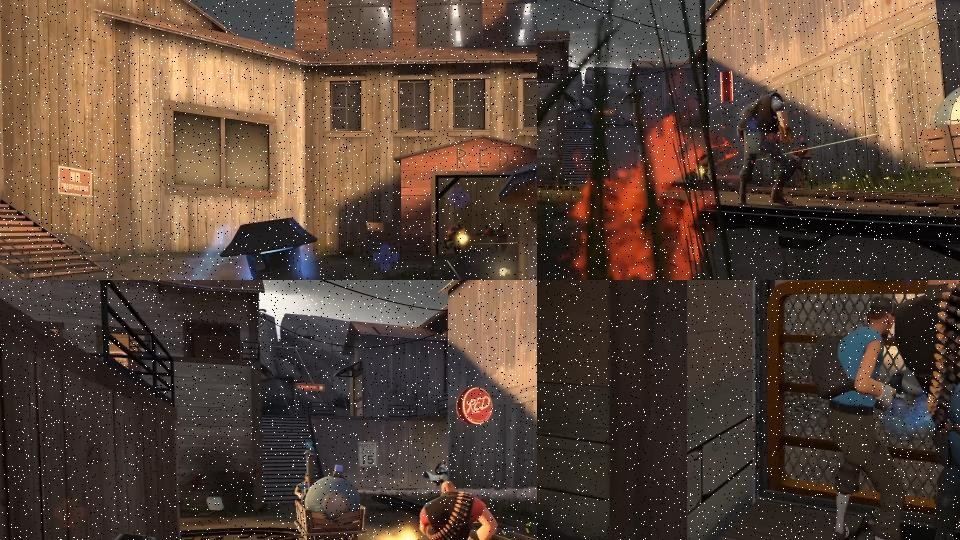Enemy: (808, 294, 903, 540), (893, 280, 960, 540), (735, 92, 793, 205), (415, 483, 498, 540), (788, 142, 812, 187), (444, 220, 465, 253), (687, 152, 709, 181), (476, 225, 499, 251), (494, 223, 508, 252)
